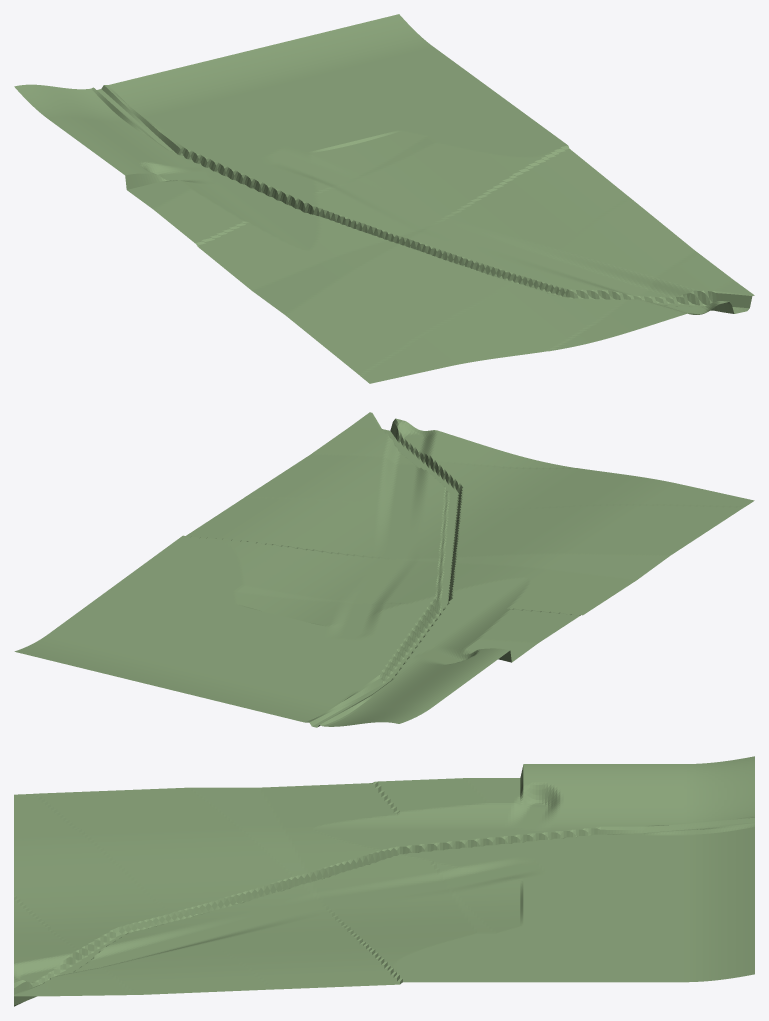
The model's file is ranch_terrain.glb.
3 views of the same model, one above another, from view 1: azimuth 30°, elevation 25°; view 2: azimuth 150°, elevation 25°; view 3: azimuth 270°, elevation 25° (orthographic). The views are drawn at different scales.
Visible parts, largest first — view 1: ranch_tile_072_000-col, ranch_tile_096_000-col, ranch_tile_048_000-col, ranch_tile_120_000-col, ranch_tile_120_192-col, ranch_tile_096_168-col, ranch_tile_120_216-col, ranch_tile_096_120-col, ranch_tile_096_144-col, ranch_tile_096_096-col, ranch_tile_024_000-col, ranch_tile_096_192-col (+50 smaller); view 2: ranch_tile_096_216-col, ranch_tile_120_216-col, ranch_tile_096_048-col, ranch_tile_048_024-col, ranch_tile_120_024-col, ranch_tile_120_072-col, ranch_tile_072_024-col, ranch_tile_096_024-col, ranch_tile_072_048-col, ranch_tile_120_048-col, ranch_tile_048_048-col, ranch_tile_096_072-col (+52 smaller); view 3: ranch_tile_000_048-col, ranch_tile_000_024-col, ranch_tile_000_000-col, ranch_tile_048_144-col, ranch_tile_024_096-col, ranch_tile_000_072-col, ranch_tile_048_192-col, ranch_tile_048_168-col, ranch_tile_048_216-col, ranch_tile_048_120-col, ranch_tile_024_024-col, ranch_tile_024_192-col (+58 smaller).
Boxes of the visible parts, x1,y1,x2,y2 form: ranch_tile_072_000-col: (199, 48, 295, 96); ranch_tile_096_000-col: (261, 33, 357, 81); ranch_tile_048_000-col: (137, 63, 233, 111); ranch_tile_120_000-col: (322, 18, 418, 66); ranch_tile_120_192-col: (607, 244, 703, 295); ranch_tile_096_168-col: (510, 232, 606, 278); ranch_tile_120_216-col: (643, 272, 738, 316); ranch_tile_096_120-col: (439, 173, 534, 221); ranch_tile_096_144-col: (474, 203, 570, 250); ranch_tile_096_096-col: (403, 144, 499, 191); ranch_tile_024_000-col: (76, 78, 172, 122); ranch_tile_096_192-col: (545, 260, 641, 307); ranch_tile_096_216-col: (412, 433, 507, 476); ranch_tile_120_216-col: (350, 418, 446, 464); ranch_tile_096_048-col: (162, 600, 258, 640); ranch_tile_048_024-col: (250, 656, 346, 696); ranch_tile_120_024-col: (65, 611, 161, 651); ranch_tile_120_072-col: (136, 559, 232, 599); ranch_tile_072_024-col: (189, 641, 284, 681); ranch_tile_096_024-col: (127, 626, 223, 666); ranch_tile_072_048-col: (224, 615, 320, 655); ranch_tile_120_048-col: (101, 585, 196, 625); ranch_tile_048_048-col: (286, 630, 381, 670); ranch_tile_096_072-col: (198, 574, 294, 614); ranch_tile_000_048-col: (532, 764, 606, 815); ranch_tile_000_024-col: (606, 764, 680, 813); ranch_tile_000_000-col: (681, 756, 754, 813); ranch_tile_048_144-col: (236, 851, 310, 898); ranch_tile_024_096-col: (384, 813, 458, 856); ranch_tile_000_072-col: (458, 764, 532, 816); ranch_tile_048_192-col: (88, 856, 162, 897); ranch_tile_048_168-col: (162, 853, 236, 894); ranch_tile_048_216-col: (14, 859, 87, 900); ranch_tile_048_120-col: (310, 849, 384, 888); ranch_tile_024_024-col: (606, 813, 680, 848); ranch_tile_024_192-col: (88, 821, 162, 859).
Bounding box in the file's own units: 150 × 20.99 × 240.
